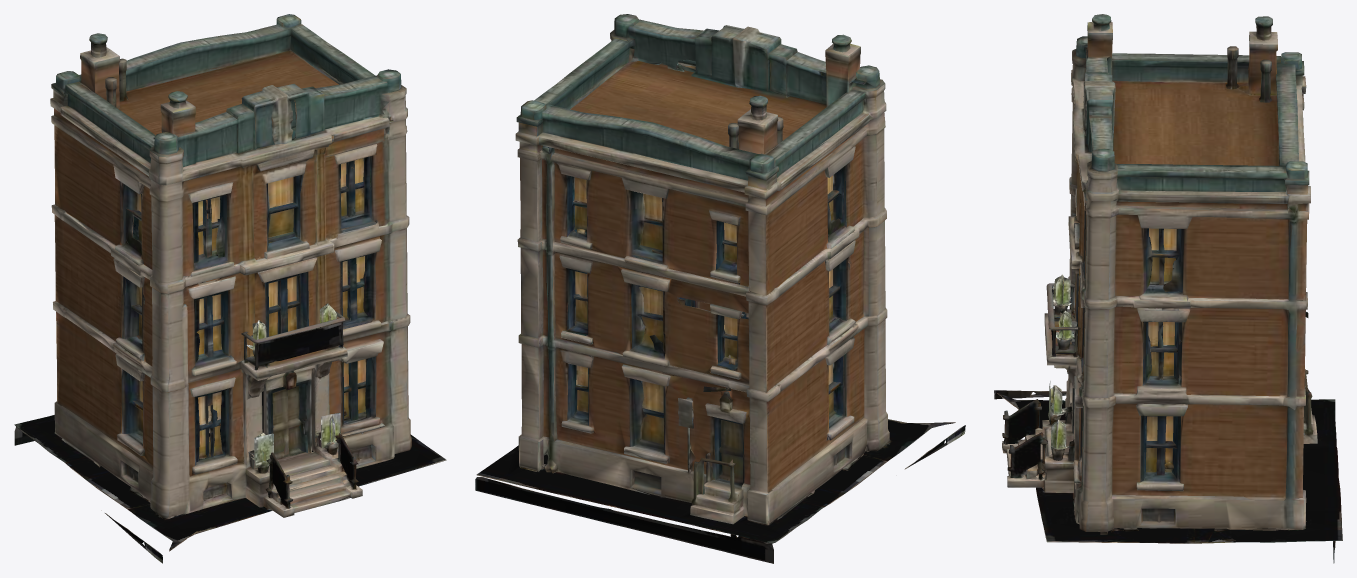
File: candidate.glb
3 views of the same model, side by side, from view 1: azimuth 30°, elevation 25°; view 2: azimuth 150°, elevation 25°; view 3: azimuth 270°, elevation 25° (orthographic).
Parts seen in each view (by area): view 1: expansion__villa_3__native_mobile; view 2: expansion__villa_3__native_mobile; view 3: expansion__villa_3__native_mobile.
Boxes of the visible parts, x1,y1,x2,y2 form: expansion__villa_3__native_mobile: (14, 14, 446, 563); expansion__villa_3__native_mobile: (475, 14, 965, 563); expansion__villa_3__native_mobile: (994, 14, 1342, 563).
Bounding box in the file's own units: 0.7817 × 1 × 0.7425.
1 material, 1 textured.
